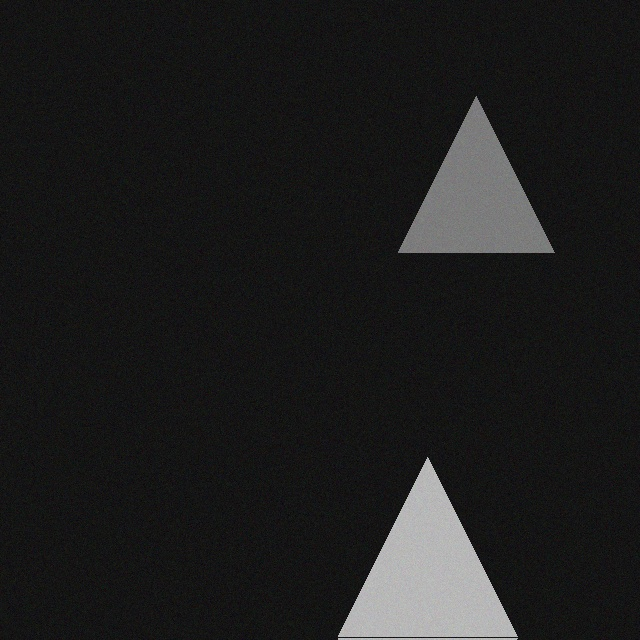triangle: (327, 459, 506, 638), (387, 98, 543, 254)
